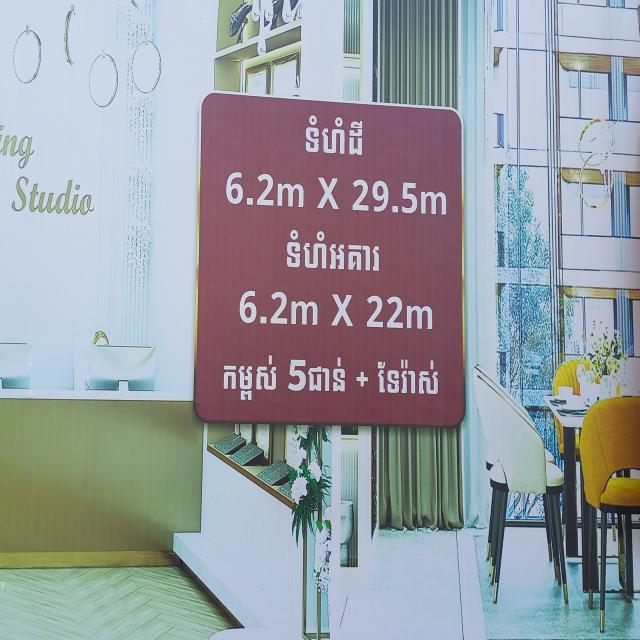660: (366, 291, 405, 330)
69: (218, 350, 352, 402)
697: (352, 170, 420, 215)
800: (221, 167, 279, 213), (237, 288, 293, 328)
Yolov11_80vkh: (284, 226, 387, 276), (373, 352, 441, 401), (300, 110, 369, 157)
